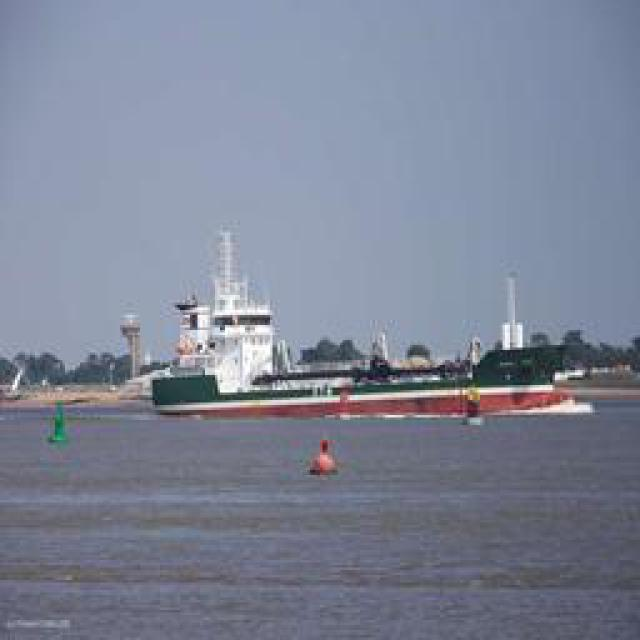Ship: (135, 226, 582, 419)
